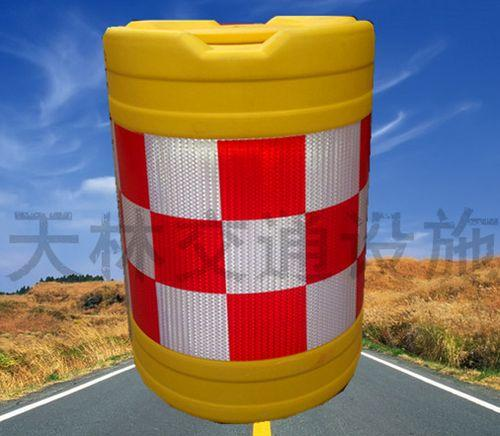sign: (96, 11, 386, 421)
